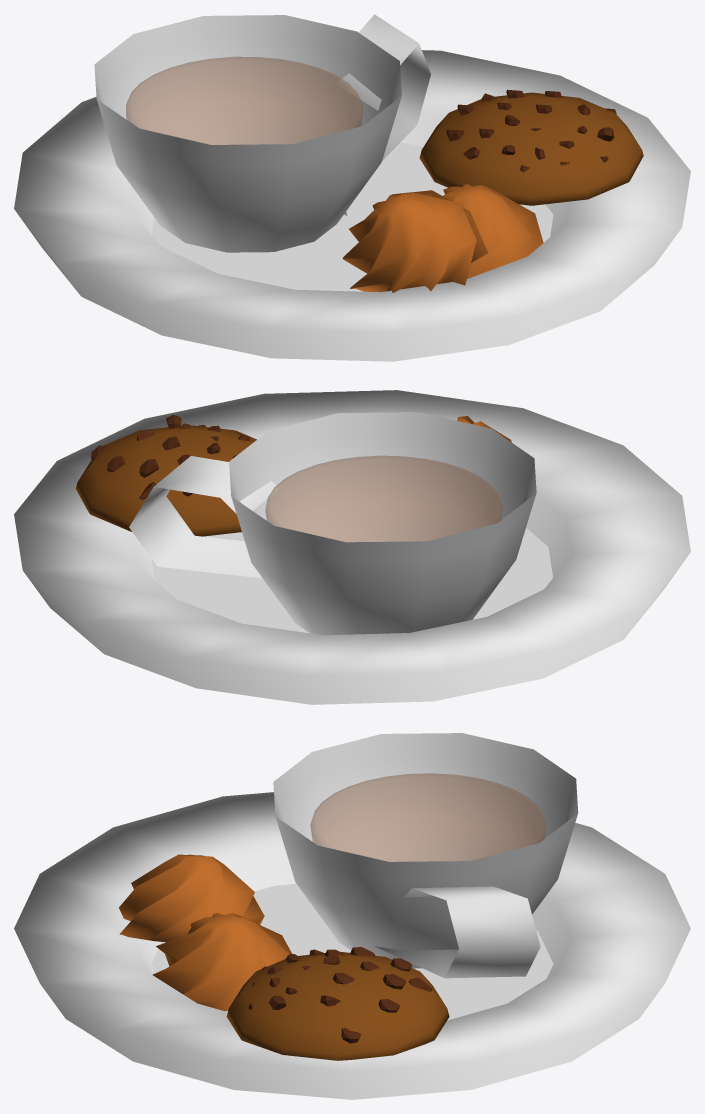
The model's file is cupncookie.glb.
3 views of the same model, one above another, from view 1: azimuth 30°, elevation 25°; view 2: azimuth 150°, elevation 25°; view 3: azimuth 270°, elevation 25° (orthographic).
Parts seen in each view (by area): view 1: Circle.005, Circle.014, Circle.003, Circle.012, Circle.001, Circle.004, Circle.013; view 2: Circle.005, Circle.014, Circle.012, Circle.003, Circle.013; view 3: Circle.005, Circle.014, Circle.003, Circle.012, Circle.013, Circle.001, Circle.004.
Boxes of the visible parts, bbox=[...] form: Circle.005: bbox=[14, 50, 690, 361]; Circle.014: bbox=[94, 15, 401, 252]; Circle.003: bbox=[419, 92, 643, 205]; Circle.012: bbox=[126, 57, 362, 144]; Circle.001: bbox=[342, 190, 488, 292]; Circle.004: bbox=[443, 183, 543, 278]; Circle.013: bbox=[336, 14, 430, 215]; Circle.005: bbox=[14, 390, 690, 704]; Circle.014: bbox=[229, 412, 536, 635]; Circle.012: bbox=[265, 456, 502, 541]; Circle.003: bbox=[75, 425, 256, 536]; Circle.013: bbox=[129, 456, 278, 578]; Circle.005: bbox=[14, 792, 690, 1099]; Circle.014: bbox=[273, 733, 578, 968]; Circle.003: bbox=[226, 951, 449, 1060]; Circle.012: bbox=[310, 773, 545, 861]; Circle.013: bbox=[374, 886, 540, 978]; Circle.001: bbox=[119, 854, 264, 942]; Circle.004: bbox=[152, 913, 291, 1011].
Bounding box in the file's own units: 15.64 × 3.9 × 15.64.
